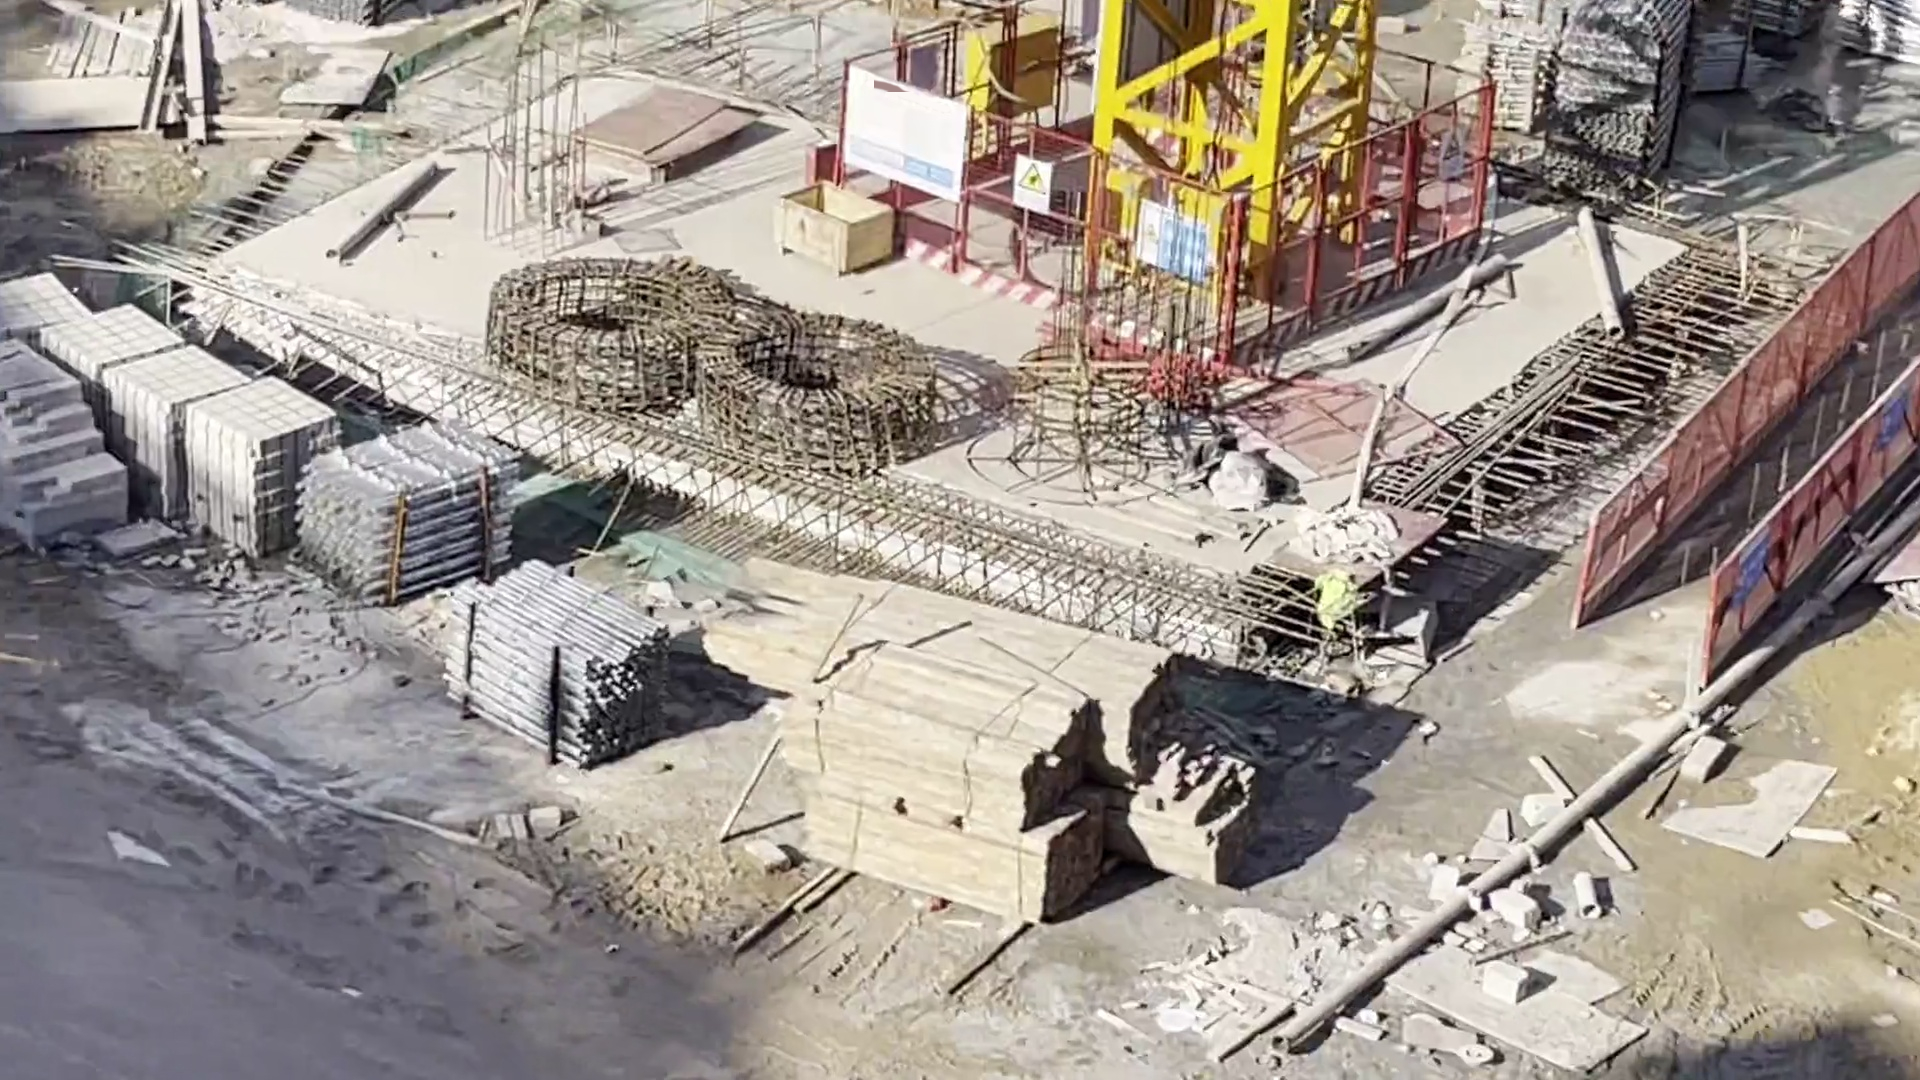brick: (50, 306, 232, 510), (1, 359, 120, 545), (196, 375, 316, 558)
ebox: (969, 15, 1063, 109)
fence: (1585, 187, 1920, 636)
scaffold: (451, 564, 659, 758), (301, 414, 520, 593), (1560, 1, 1681, 200), (1458, 20, 1547, 133)
slogan: (1133, 196, 1212, 287), (1733, 526, 1764, 612), (1015, 156, 1050, 207), (1876, 392, 1905, 446), (1439, 131, 1466, 177)
wood: (742, 578, 1164, 770), (804, 673, 1108, 923)
